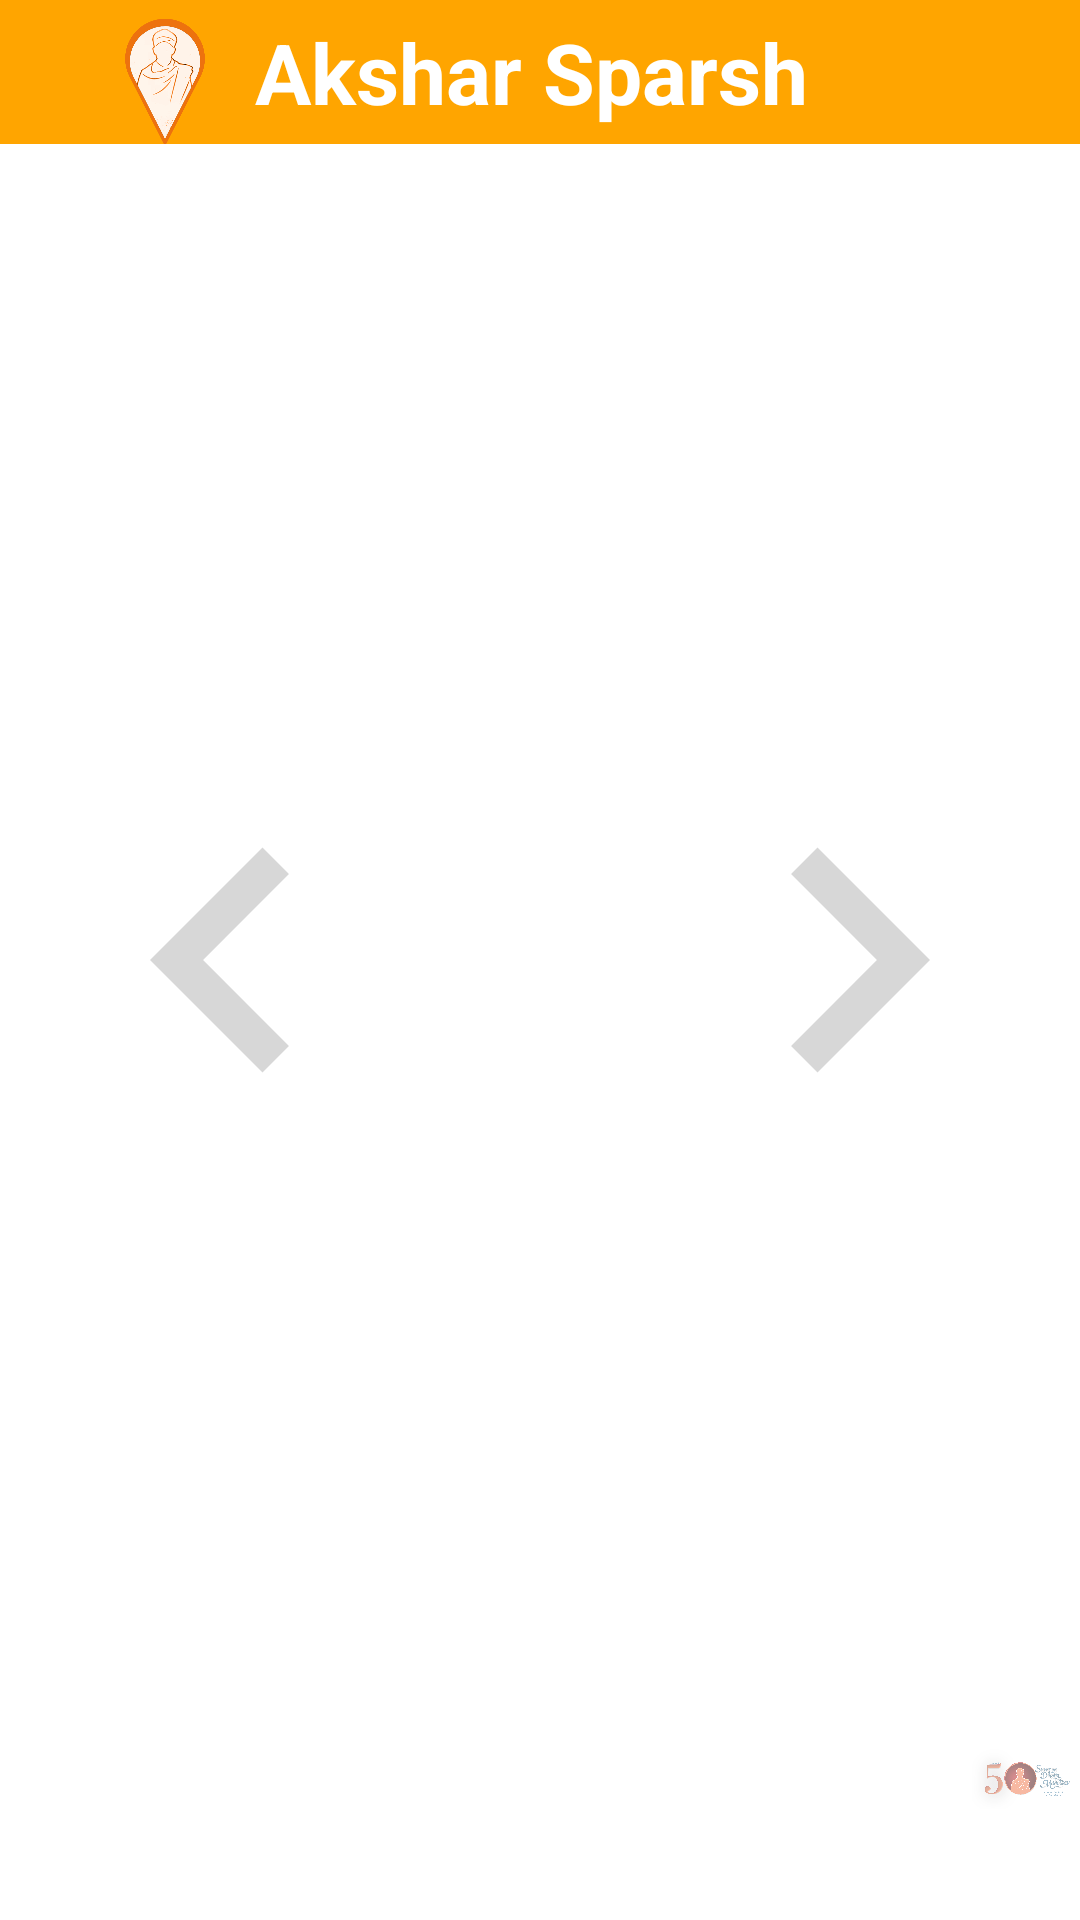

Locate icon controls on the screen. Image size 1080w x 1920h, boxes as (x1, y1, x2, y2).
left arrow: (151, 848, 288, 1072)
right arrow: (792, 848, 929, 1072)
